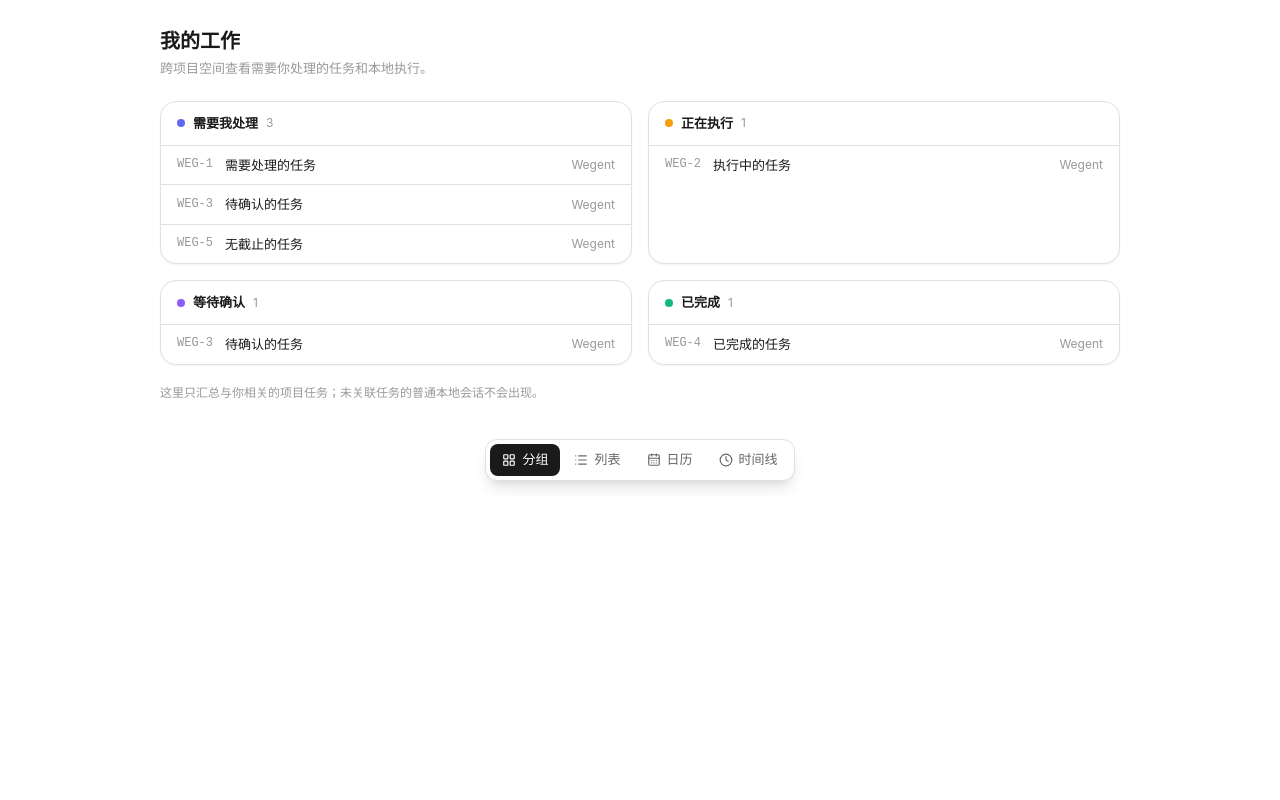
it: CloudMyWorkView › switches to the timeline view grouped by due day
The image size is (1280, 800).
Click the tab with test id "my-work-view-tab-timeline". click: (748, 460)
box: [706,444,790,476]
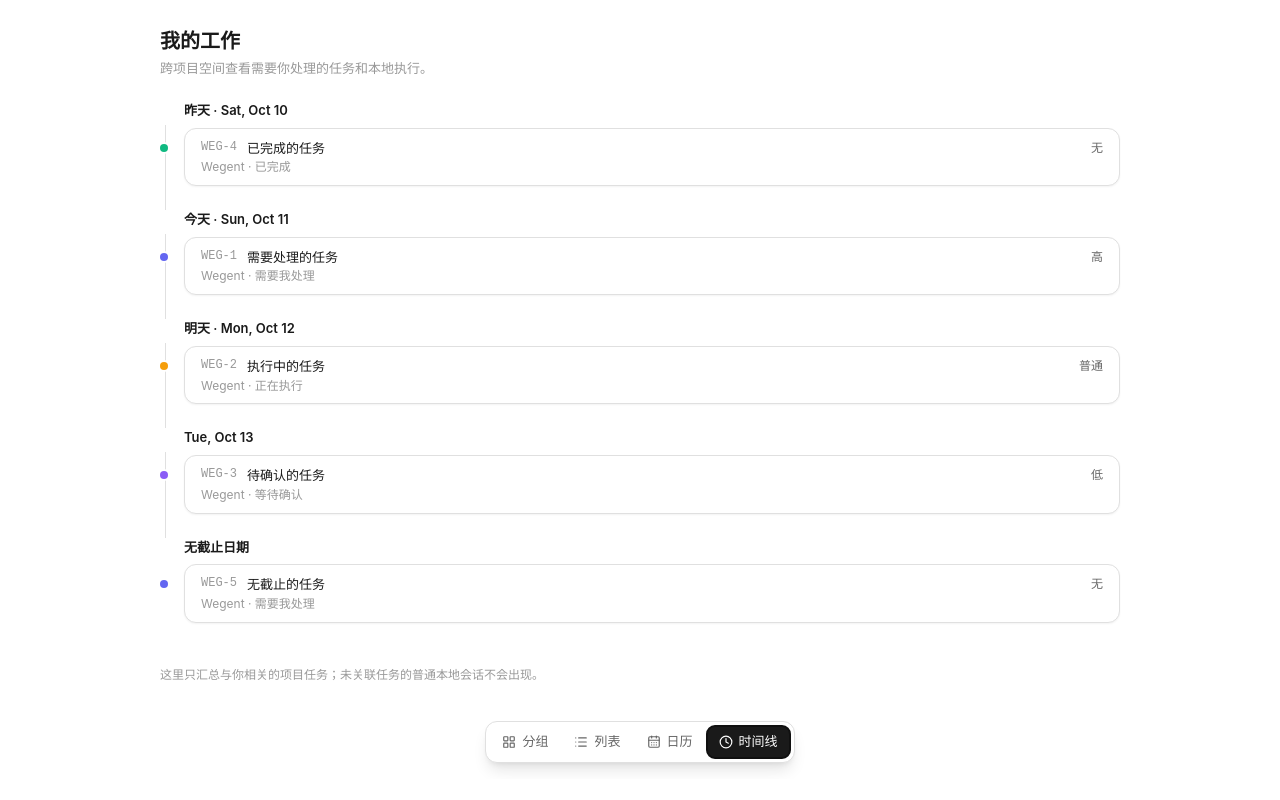
Expected: the heading "今天 · Sun, Oct 11" is shown, [184,211,289,227]
Expected: the heading "明天 · Mon, Oct 12" is shown, [184,320,295,336]
Expected: the heading "无截止日期" is shown, [184,539,249,555]
